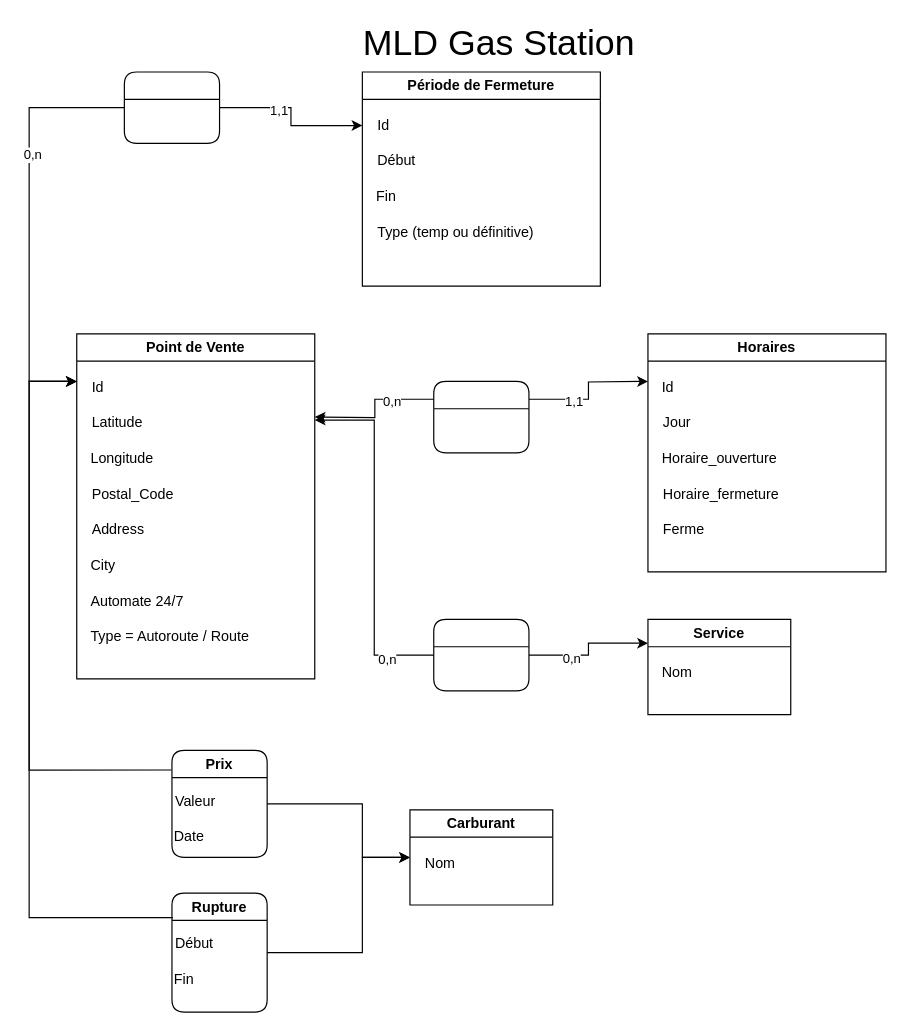
Some shapes in this 907 by 1033 pixel diagram are drawn without their labels. Each missing label, with the centre of its shape:
Dispose: (481,654)
Fermer: (171,107)
Ouvre: (481,416)
